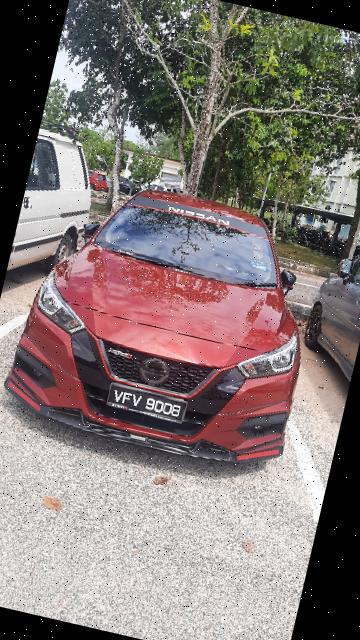License_Plate: (105, 376, 194, 430)
car: (3, 159, 339, 485)
